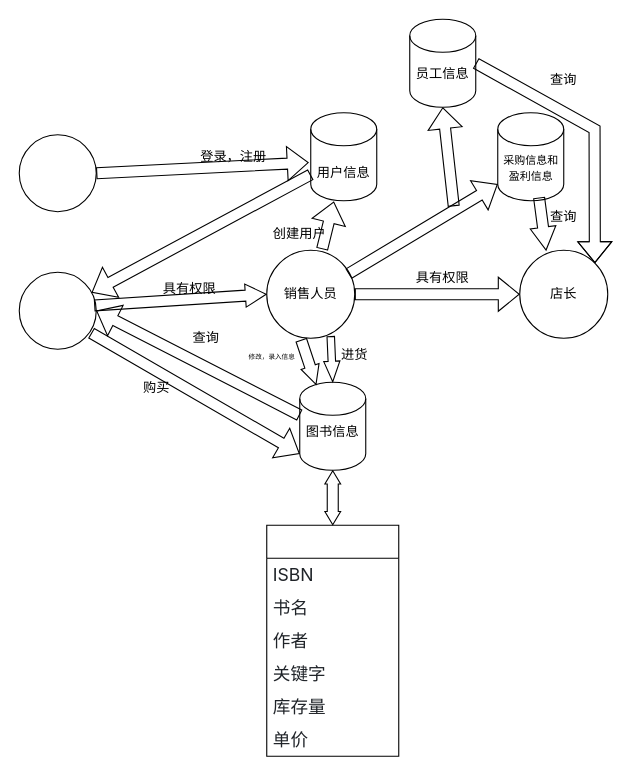
The diagram is 631 pixels wide and 776 high, and some of its shapes have lost their labels. Each missing label, with the box of its shape:
List: (266, 524, 399, 756)
游客: (18, 134, 96, 212)
顾客: (18, 271, 96, 349)
